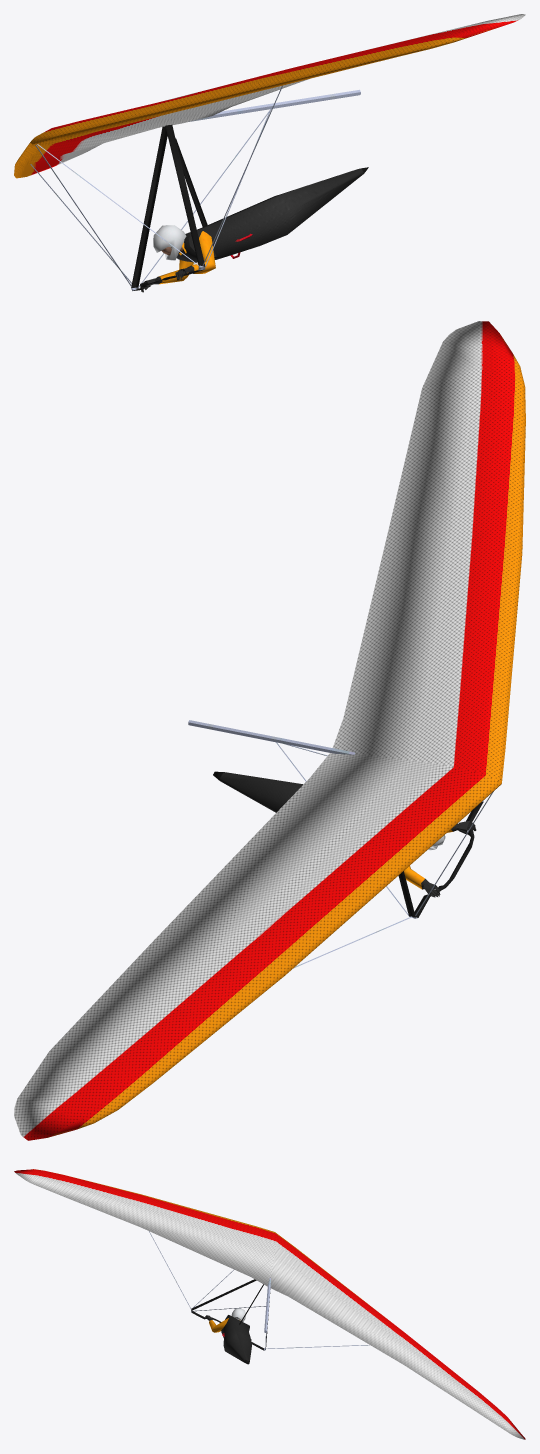
Rendered from hang-glider-red-thermal-cbj_LOD02.gltf.
3 views of the same model, one above another, from view 1: azimuth 30°, elevation 25°; view 2: azimuth 150°, elevation 25°; view 3: azimuth 270°, elevation 25° (orthographic). The views are drawn at different scales.
Visible parts, largest first — view 1: hang-glider00; view 2: hang-glider00; view 3: hang-glider00.
Boxes of the visible parts, box(x1,y1,x2,y2) form: hang-glider00: box(14, 14, 525, 292); hang-glider00: box(14, 321, 525, 1140); hang-glider00: box(14, 1169, 525, 1439).
Size of what is drawn, in the model's own units: 3.49 by 5.03 by 8.71.
